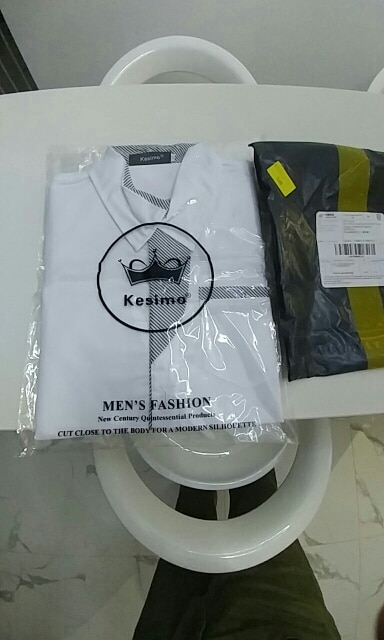shirts: (31, 147, 271, 434)
